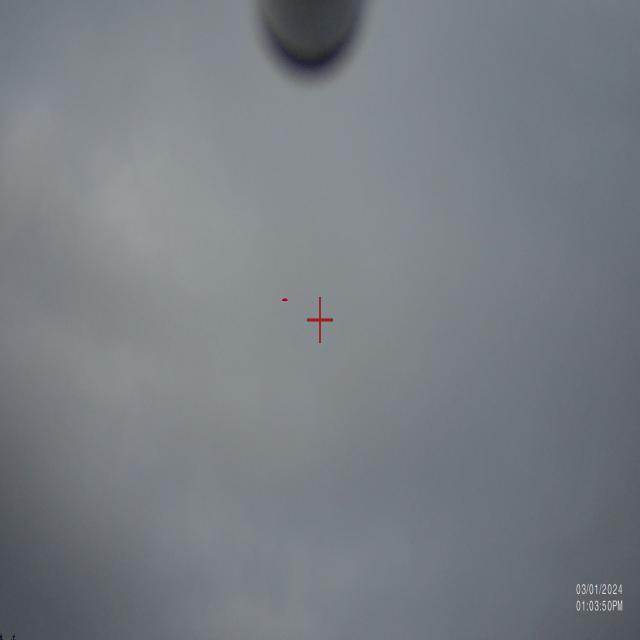entire: (278, 292, 292, 310)
